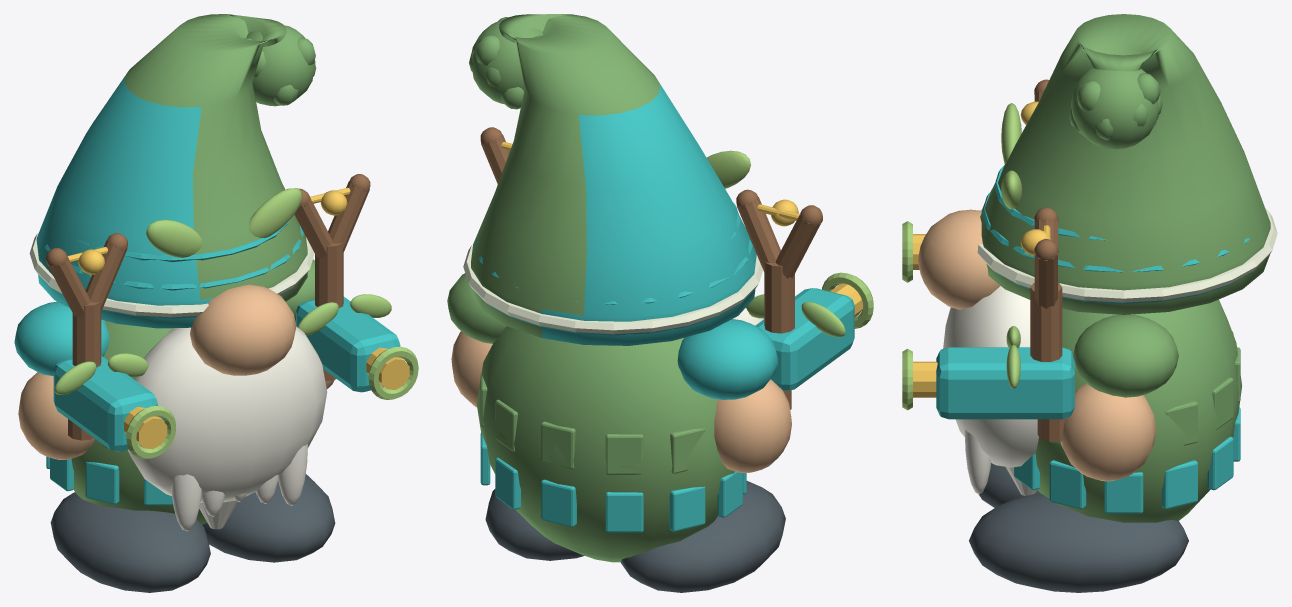
The model's file is gnome-fusion-multi-sprout.glb.
3 renders of one model, left to right at view 1: azimuth 30°, elevation 25°; view 2: azimuth 150°, elevation 25°; view 3: azimuth 270°, elevation 25°, orthographic. The views are drawn at different scales.
Parts seen in each view (by area): view 1: gnome-fusion-multi-sprout; view 2: gnome-fusion-multi-sprout; view 3: gnome-fusion-multi-sprout.
Part boxes in pixels (x1,y1,x2,y2): gnome-fusion-multi-sprout: [14, 14, 418, 592]; gnome-fusion-multi-sprout: [447, 14, 873, 592]; gnome-fusion-multi-sprout: [902, 14, 1277, 592].
Size of the model in its own units: 1.03 by 1.46 by 0.92.
